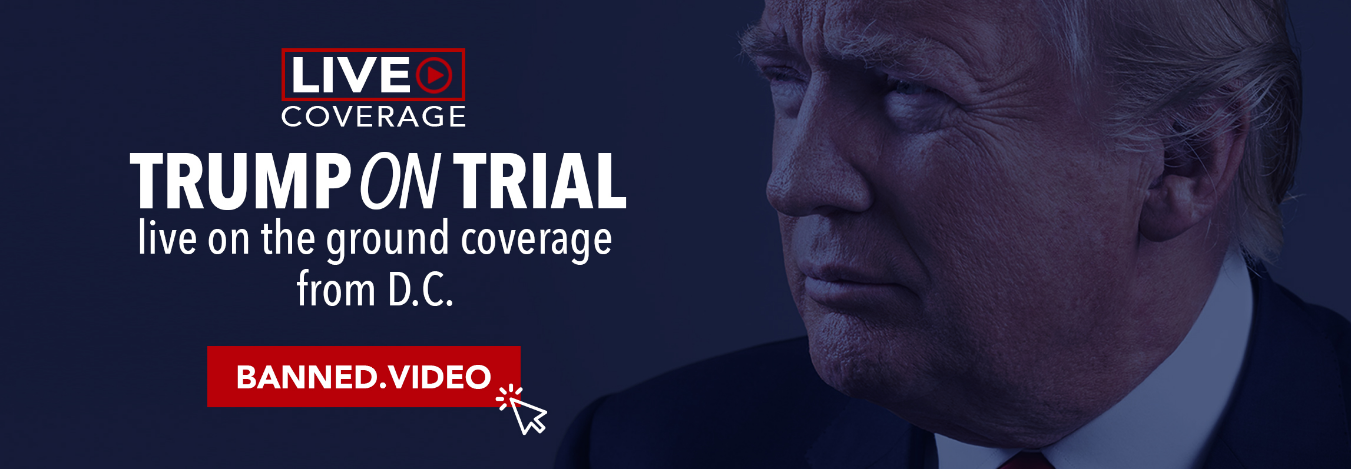fake_button: (196, 342, 547, 422)
